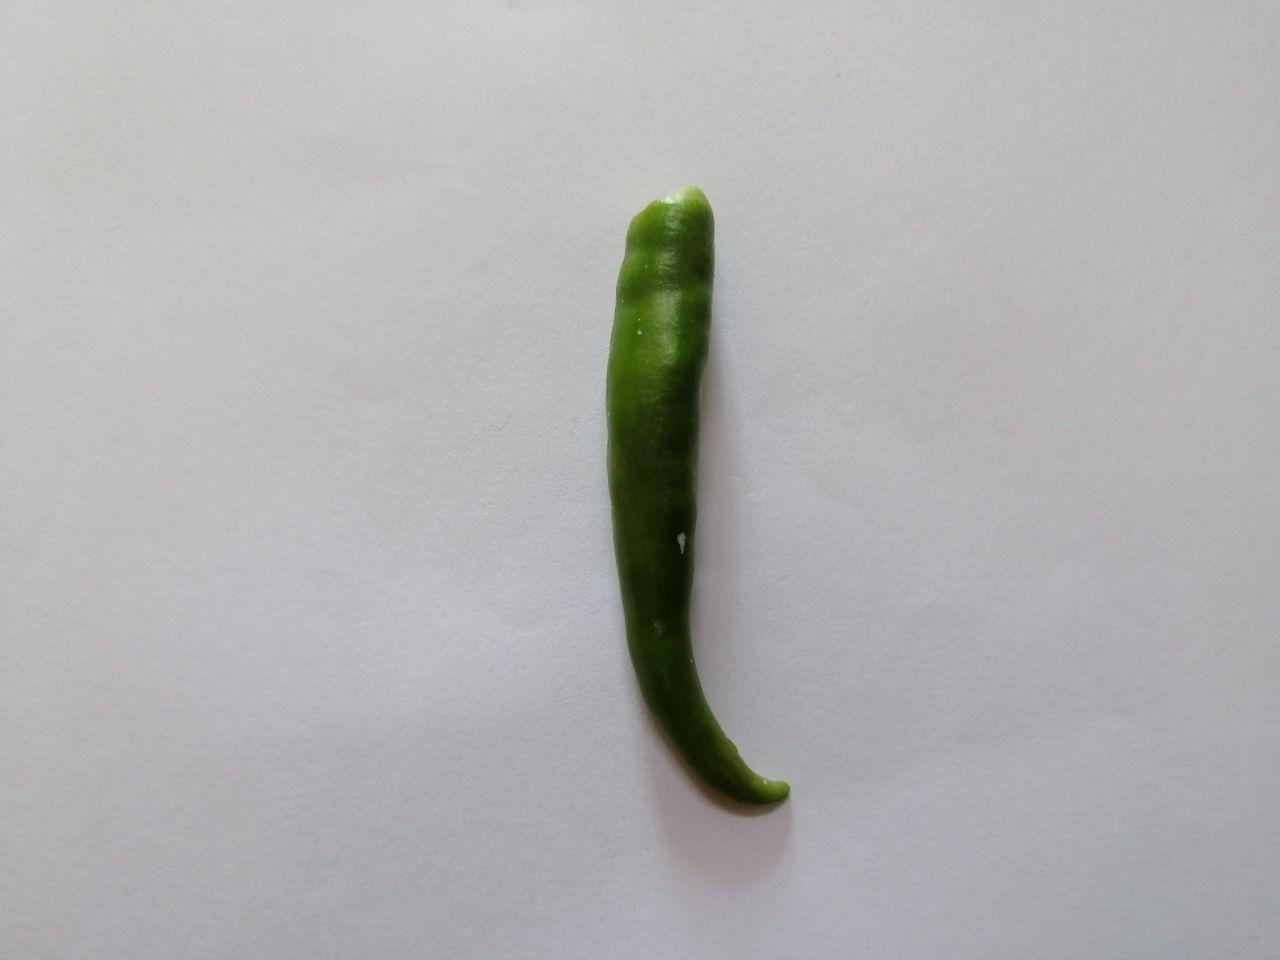lada hijau: (575, 168, 815, 843)
